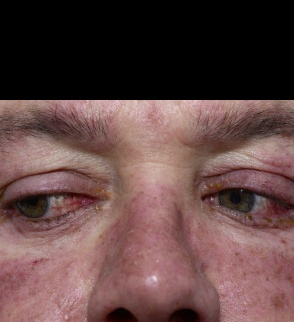SJS-TEN: (43, 165, 125, 240), (250, 185, 294, 244)
